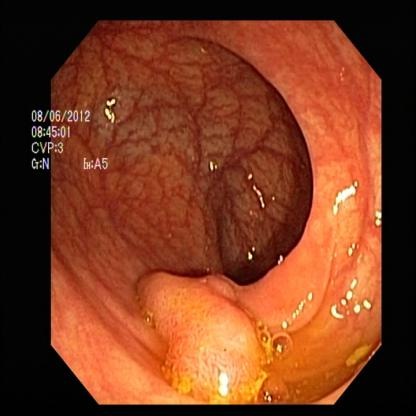Labels: (30, 101, 118, 176)
Polyps: (138, 265, 279, 401)
